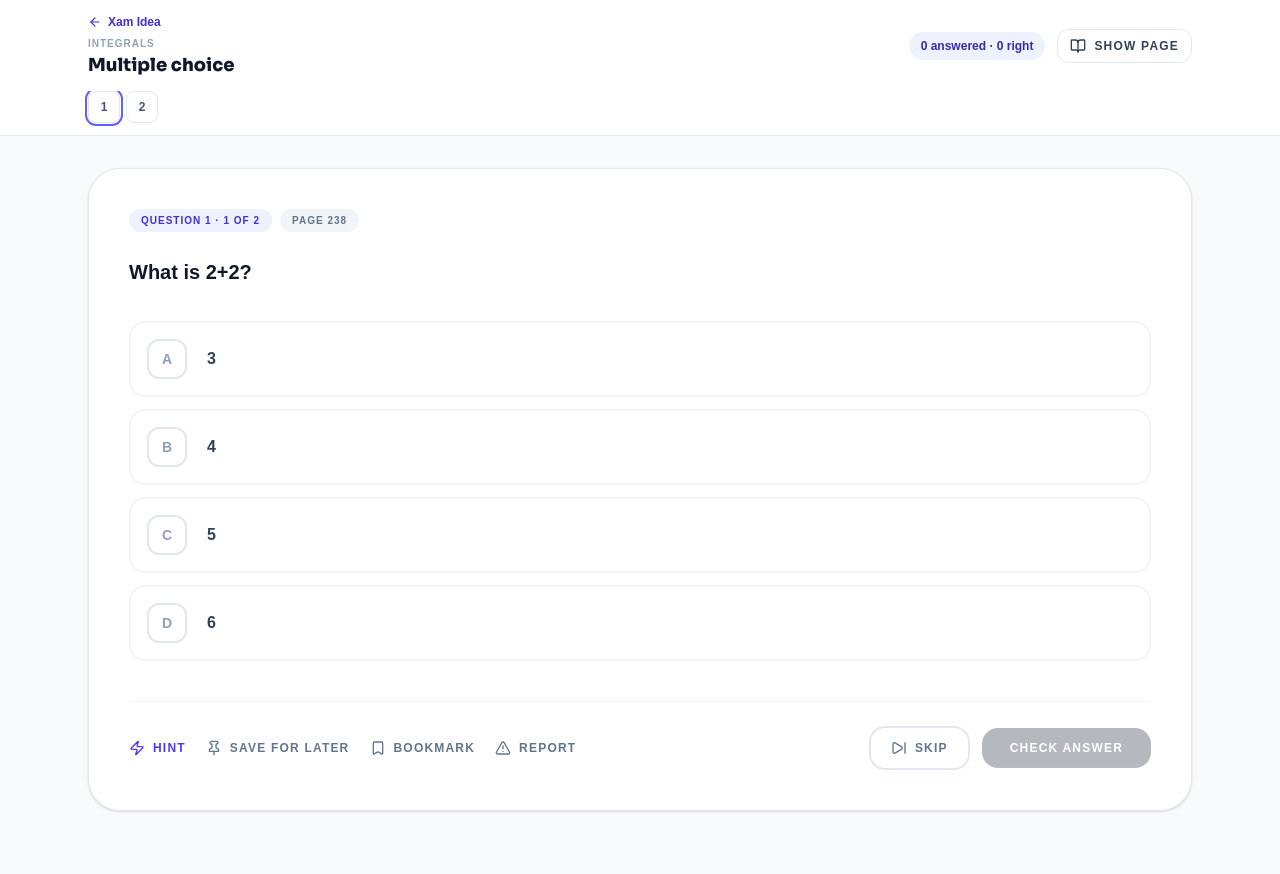
Test case: SmartbookPlayer (student) › shows one question at a time, checks the answer on the server, and puts the solution right below
Expected: the text "What is 2+2?" is shown, [129,261,252,283]
Expected: the text "Prove that x = x." is not shown
Click the radio button with test id "option-A" at (167, 358), box [129,320,1151,396]
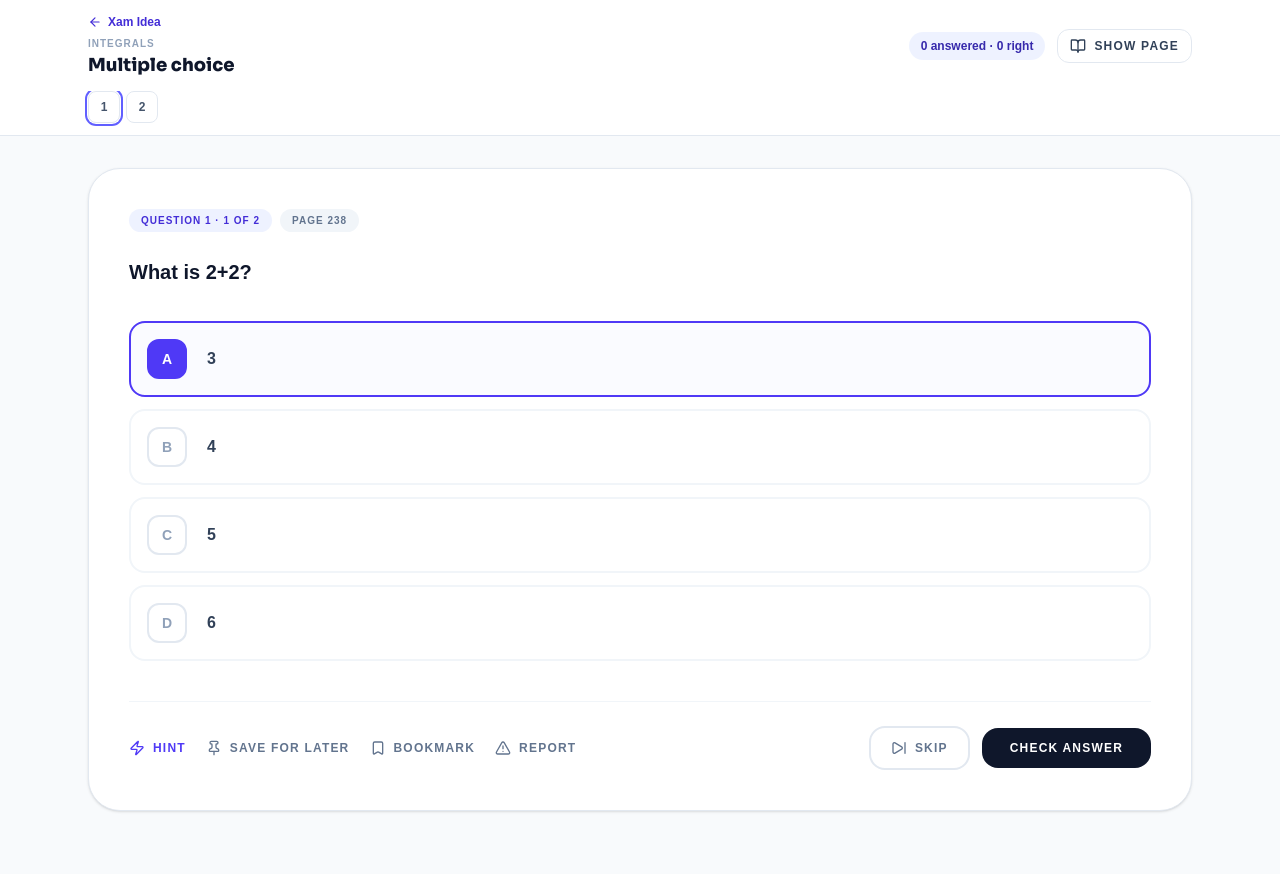
Click the button with test id "submit-answer" at (1066, 748), box [982,728,1151,768]
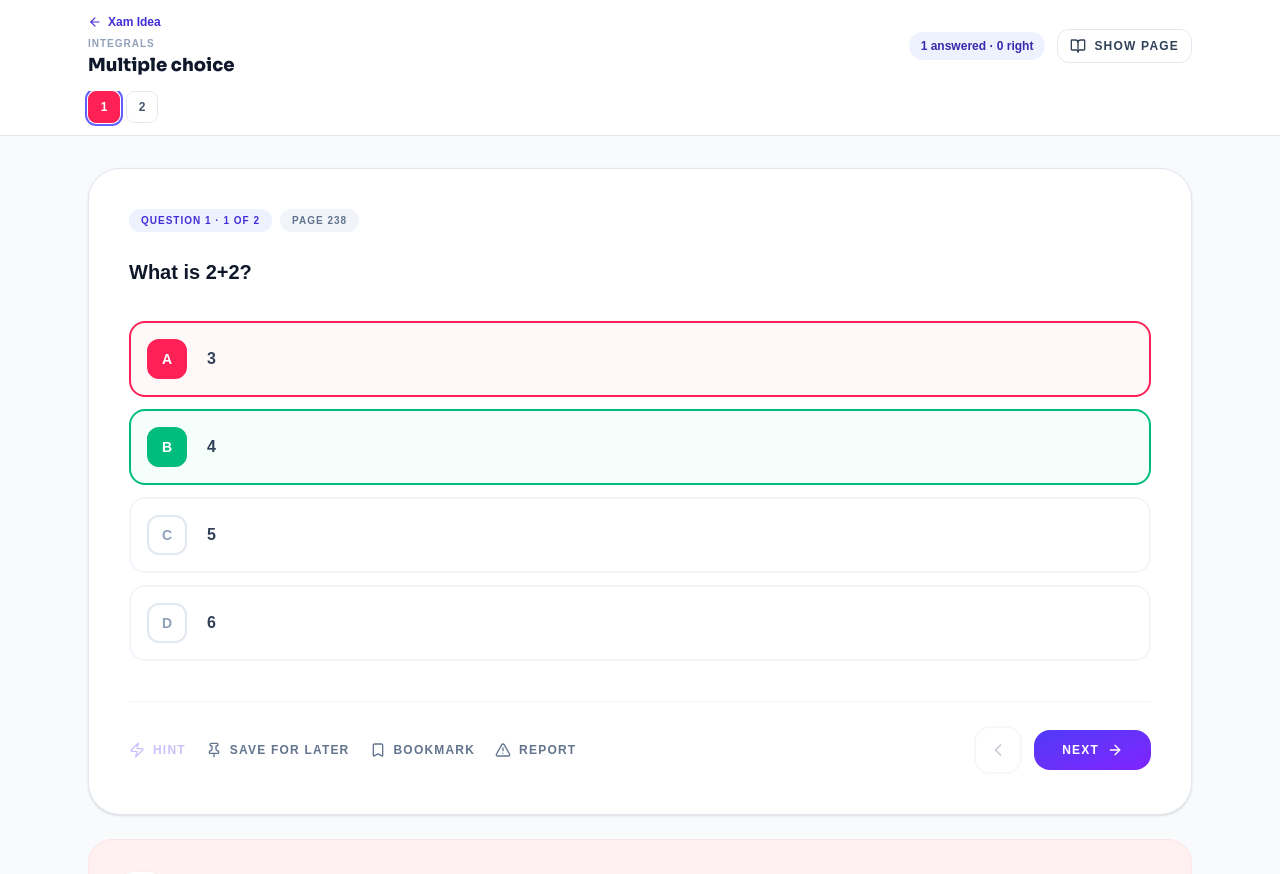
Expected: the message with test id "smartbook-progress" reads "1 answered · 0 right", [909,32,1045,60]
Click the button with test id "next-question" at (1093, 750), box [1034,730,1151,770]
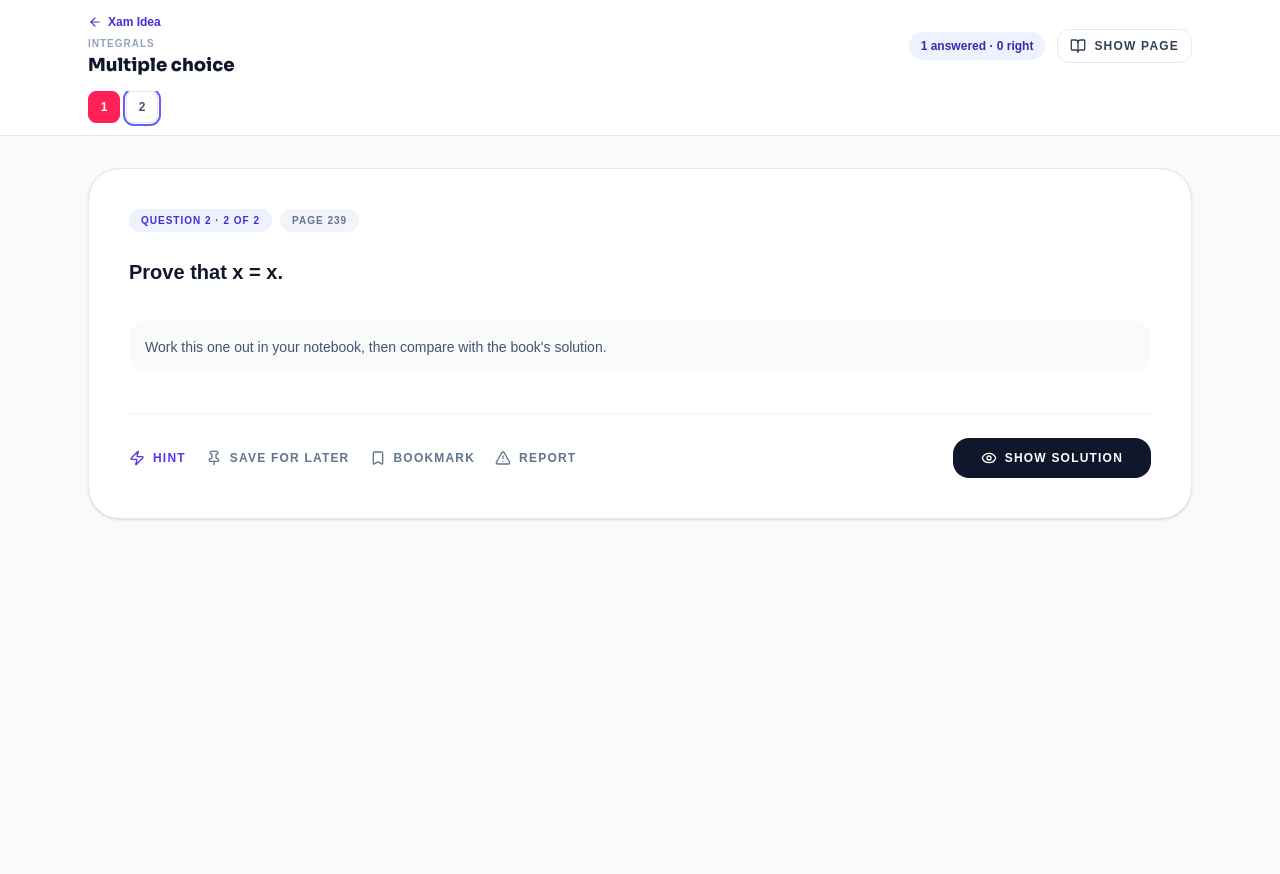
Expected: the text "Prove that x = x." is shown, [129,261,283,283]
